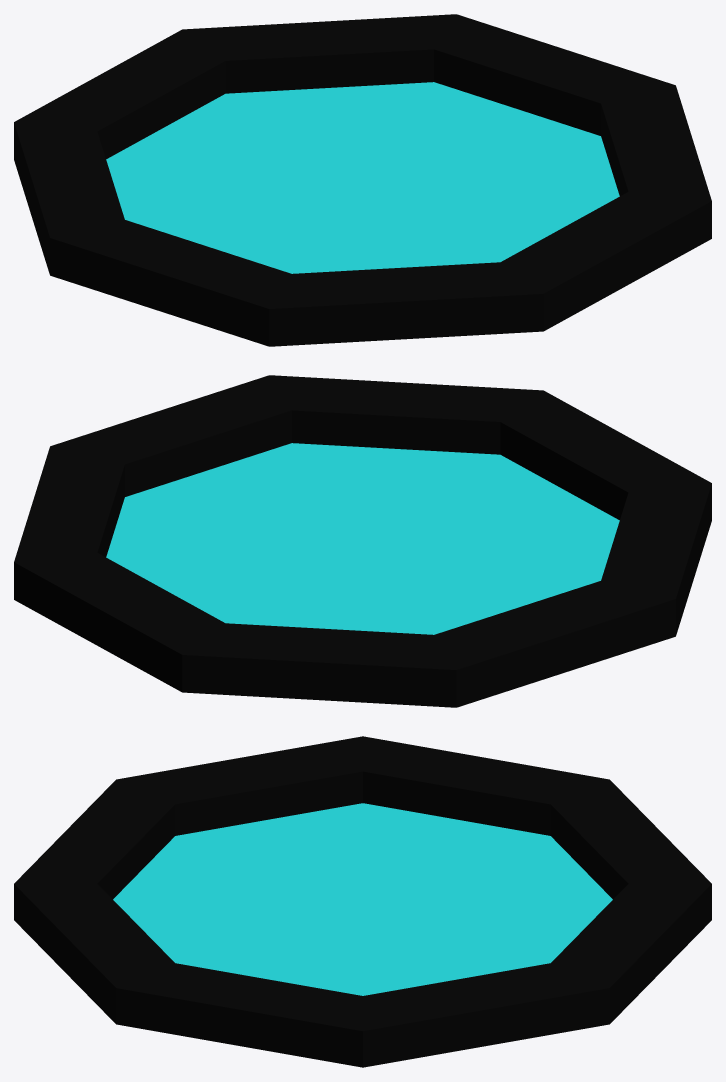
Rendered from MedkitSocle.fbx.
3 renders of one model, top to bottom at view 1: azimuth 30°, elevation 25°; view 2: azimuth 150°, elevation 25°; view 3: azimuth 270°, elevation 25°, orthographic. The views are drawn at different scales.
Visible parts, largest first — view 1: Circle; view 2: Circle; view 3: Circle.
Part boxes in pixels (bbox=[...]): Circle: bbox=[14, 14, 711, 346]; Circle: bbox=[14, 375, 711, 707]; Circle: bbox=[14, 736, 711, 1067].
Bounding box in the file's own units: 1000 × 57.48 × 1000.
